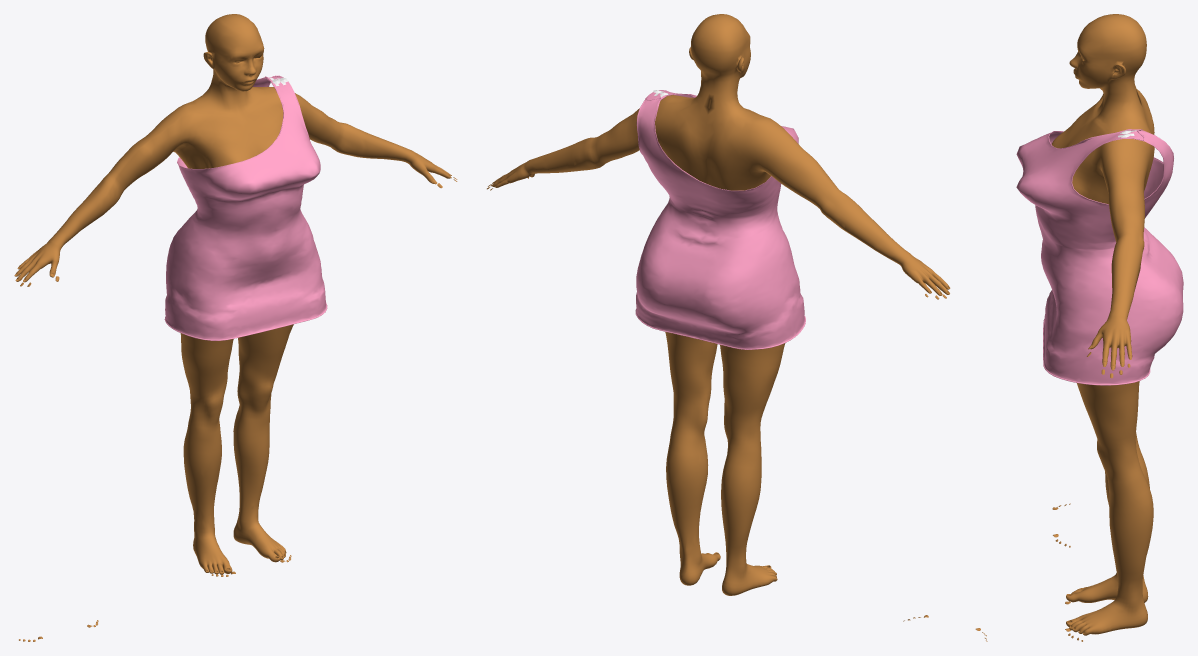
File: dress1.glb
3 views of the same model, side by side, from view 1: azimuth 30°, elevation 25°; view 2: azimuth 150°, elevation 25°; view 3: azimuth 270°, elevation 25° (orthographic). The views are drawn at different scales.
Parts seen in each view (by area): view 1: Body.003, WhiteDress; view 2: Body.003, WhiteDress; view 3: Body.003, WhiteDress.
Part boxes in pixels (bbox=[...]): Body.003: bbox=[14, 14, 451, 574]; WhiteDress: bbox=[164, 75, 327, 340]; Body.003: bbox=[492, 14, 950, 595]; WhiteDress: bbox=[635, 90, 805, 349]; Body.003: bbox=[1051, 14, 1154, 635]; WhiteDress: bbox=[1016, 129, 1183, 385].
Size of the model in its own units: 1.65 by 1.9 by 0.4683.
